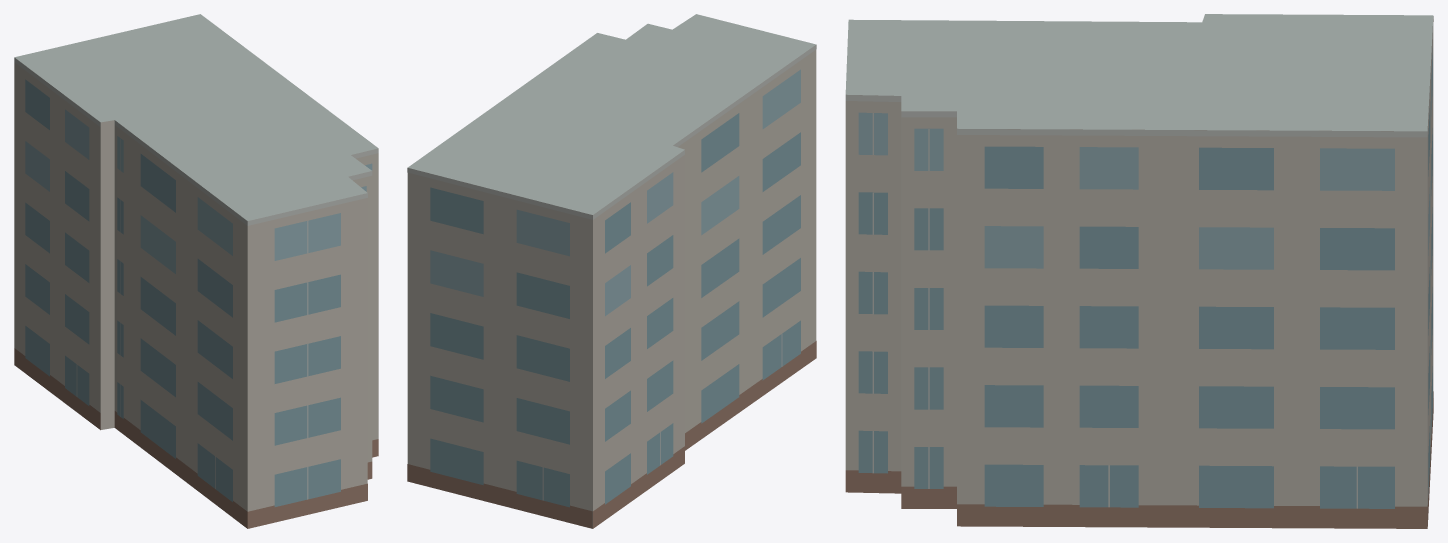
The model's file is survey-upis-32576257.glb.
3 renders of one model, left to right at view 1: azimuth 30°, elevation 25°; view 2: azimuth 150°, elevation 25°; view 3: azimuth 270°, elevation 25°, orthographic. The views are drawn at different scales.
Visible parts, largest first — view 1: survey-upis-32576257.tmp; view 2: survey-upis-32576257.tmp; view 3: survey-upis-32576257.tmp.
Boxes of the visible parts, left/top/right/bottom form: survey-upis-32576257.tmp: left=14, top=14, right=378, bottom=528; survey-upis-32576257.tmp: left=407, top=14, right=816, bottom=528; survey-upis-32576257.tmp: left=845, top=14, right=1433, bottom=528.
Bounding box in the file's own units: 10.01 × 15.8 × 21.18.
